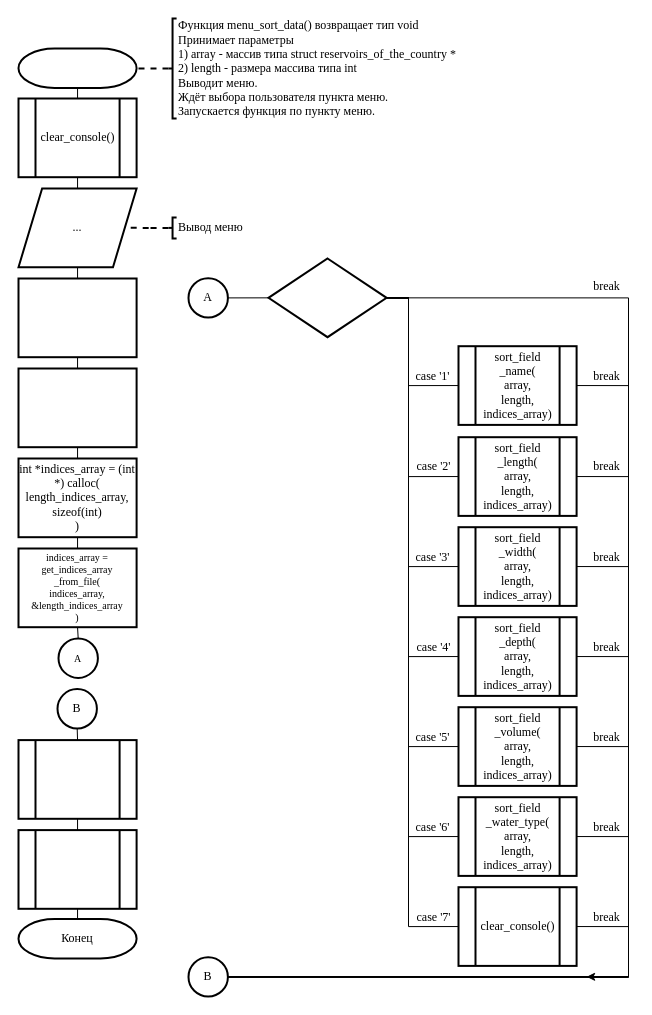
Some shapes in this 652 by 1015 pixel diagram are drawn without their labels. Each missing label, with the box of its shape:
choosen_case: (267, 257, 387, 338)
int choosen_case = getch(): (17, 277, 137, 358)
int length_indices_array = 0: (17, 367, 137, 448)
menu( array, length ): (17, 829, 137, 909)
save_indices _array_on _file( indices_array, length_indices _array): (17, 739, 137, 819)
void menu_sort _data(): (17, 47, 137, 88)
